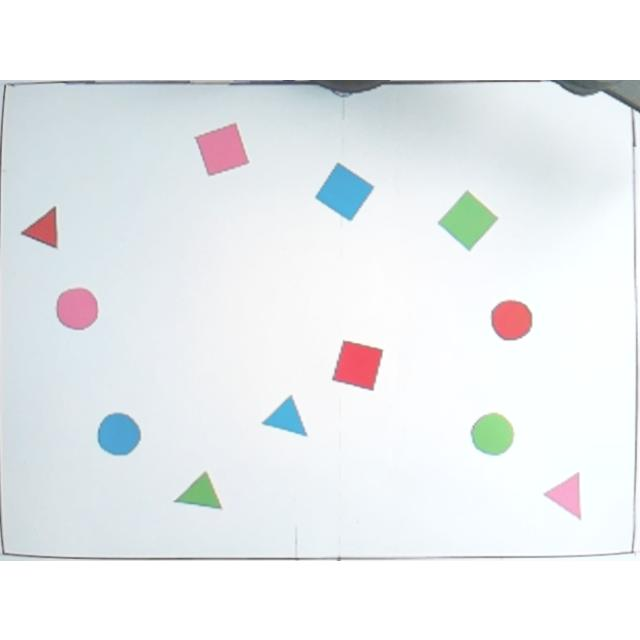blueCircle: (97, 408, 143, 458)
blueSquare: (315, 159, 375, 221)
blueTriangle: (262, 392, 310, 436)
greenCircle: (471, 409, 515, 456)
greenSquare: (436, 187, 499, 251)
greenTriangle: (172, 465, 228, 513)
pinkCircle: (55, 282, 101, 330)
pinkSquare: (194, 122, 252, 178)
pinkTriangle: (541, 468, 585, 522)
redCircle: (488, 296, 534, 342)
redSquare: (332, 336, 384, 392)
redTriangle: (18, 202, 64, 250)
